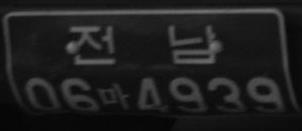0: (26, 75, 59, 112)
3: (207, 75, 245, 115)
4: (137, 76, 168, 115)
6: (61, 77, 99, 114)
9: (246, 76, 285, 116), (169, 77, 207, 114)
마: (100, 82, 128, 110)
전남_D: (70, 25, 216, 65)
